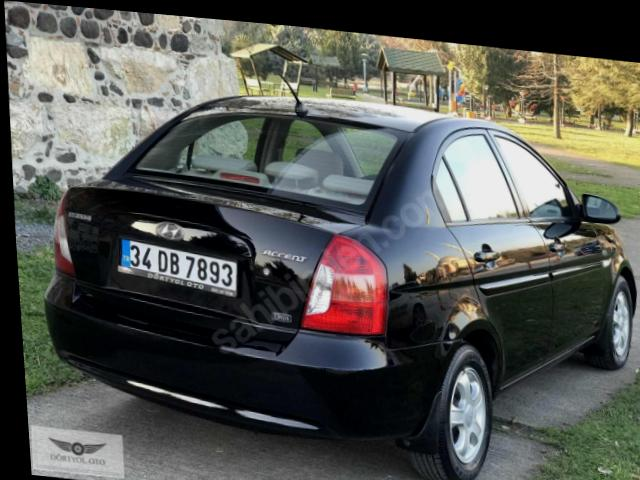plaka: (121, 240, 236, 295)
